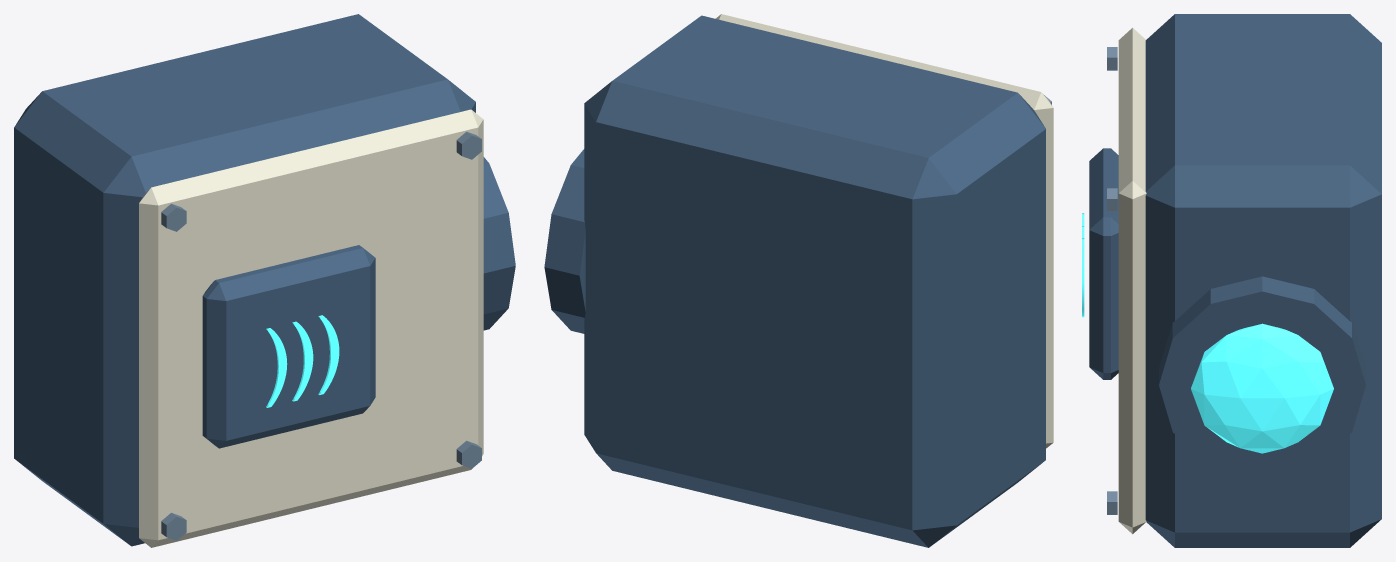
Rendered from distance_probe.glb.
3 views of the same model, side by side, from view 1: azimuth 30°, elevation 25°; view 2: azimuth 150°, elevation 25°; view 3: azimuth 270°, elevation 25° (orthographic).
Parts seen in each view (by area): view 1: Front armor.009, Structural core.009, Display, Sensor face, Range label; view 2: Structural core.009, Sensor face, Front armor.009; view 3: Structural core.009, Sensor face, Front armor.009, Range lens, Display.
Boxes of the visible parts, x1=… form: Front armor.009: x1=139, y1=109, x2=483, y2=547; Structural core.009: x1=14, y1=14, x2=475, y2=546; Display: x1=202, y1=245, x2=375, y2=448; Sensor face: x1=483, y1=157, x2=515, y2=330; Range label: x1=266, y1=315, x2=339, y2=407; Structural core.009: x1=584, y1=15, x2=1045, y2=547; Sensor face: x1=544, y1=149, x2=585, y2=333; Front armor.009: x1=715, y1=14, x2=1053, y2=448; Structural core.009: x1=1145, y1=14, x2=1381, y2=547; Sensor face: x1=1159, y1=276, x2=1365, y2=478; Front armor.009: x1=1118, y1=27, x2=1146, y2=534; Range lens: x1=1191, y1=323, x2=1333, y2=453; Display: x1=1089, y1=148, x2=1118, y2=379.
Size of the model in its own units: 1.23 by 1.06 by 0.753.
